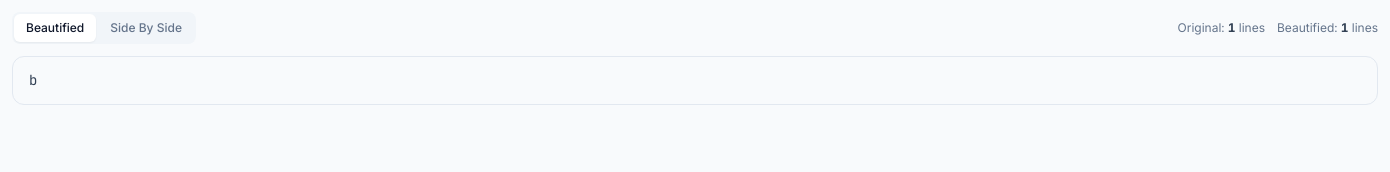
DiffView › switches to side-by-side view
Click the button "Side by side".
click(146, 28)  # box top-left (98, 14), bottom-right (194, 42)
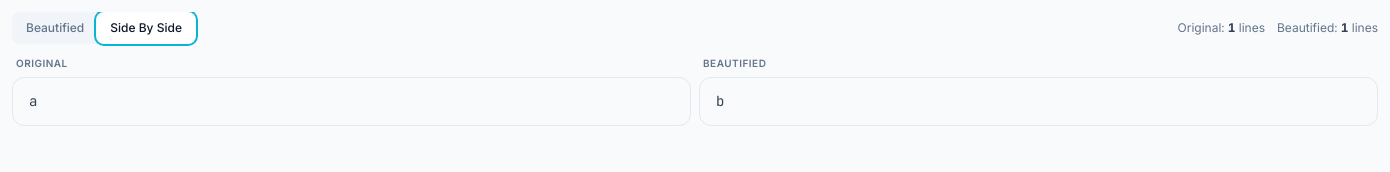
Expected: the button "Beautified" is shown, top-left (14, 14), bottom-right (96, 42)
Expected: the text "Original" is shown, top-left (16, 57), bottom-right (68, 69)
